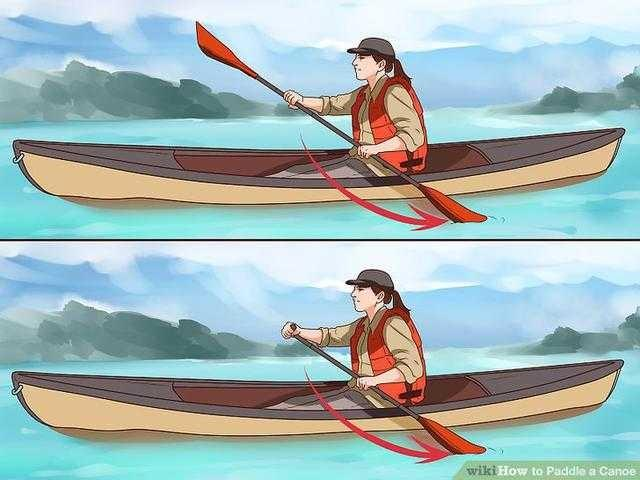kayak: (1, 120, 634, 221), (5, 354, 635, 450)
